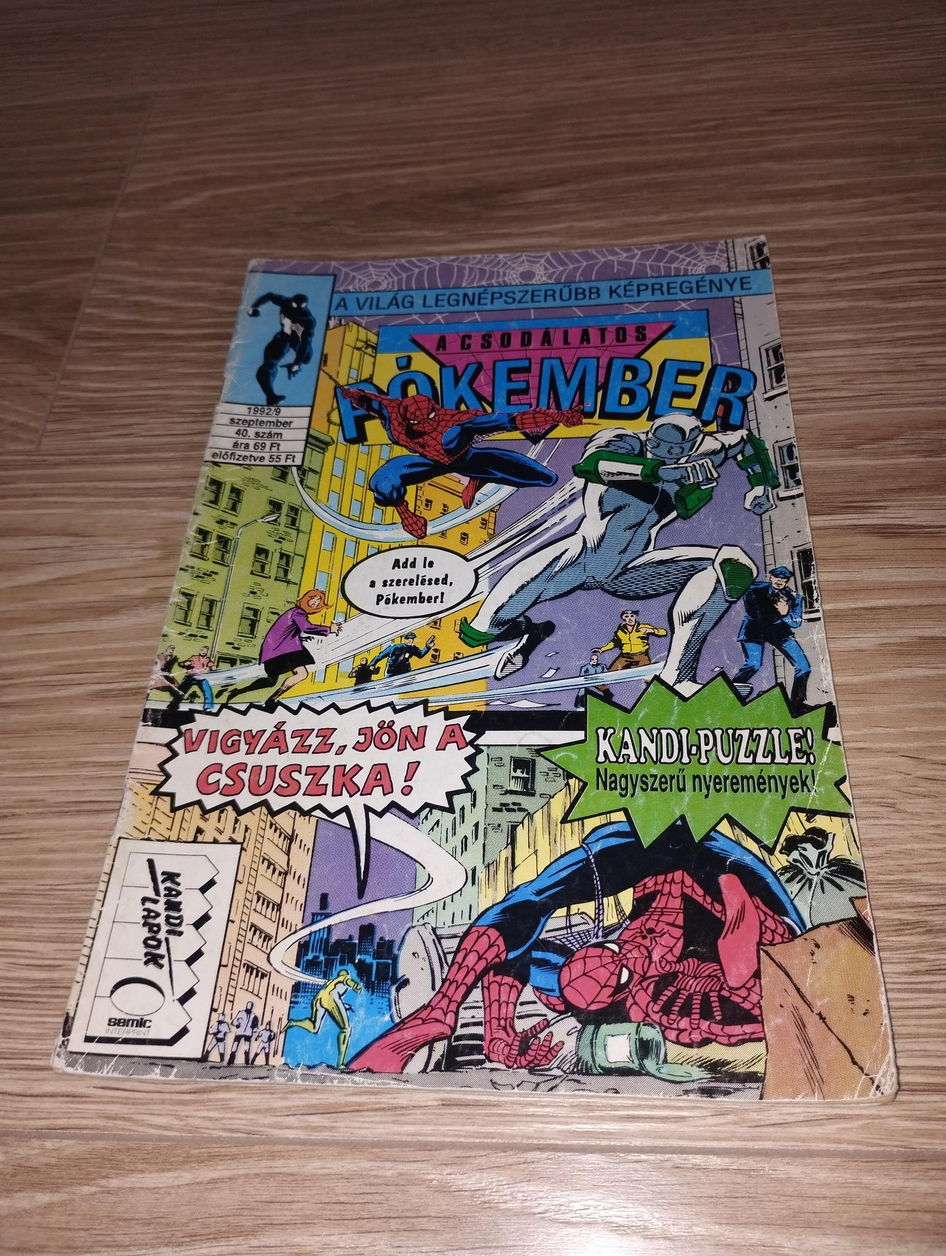comic: (55, 237, 896, 1098)
